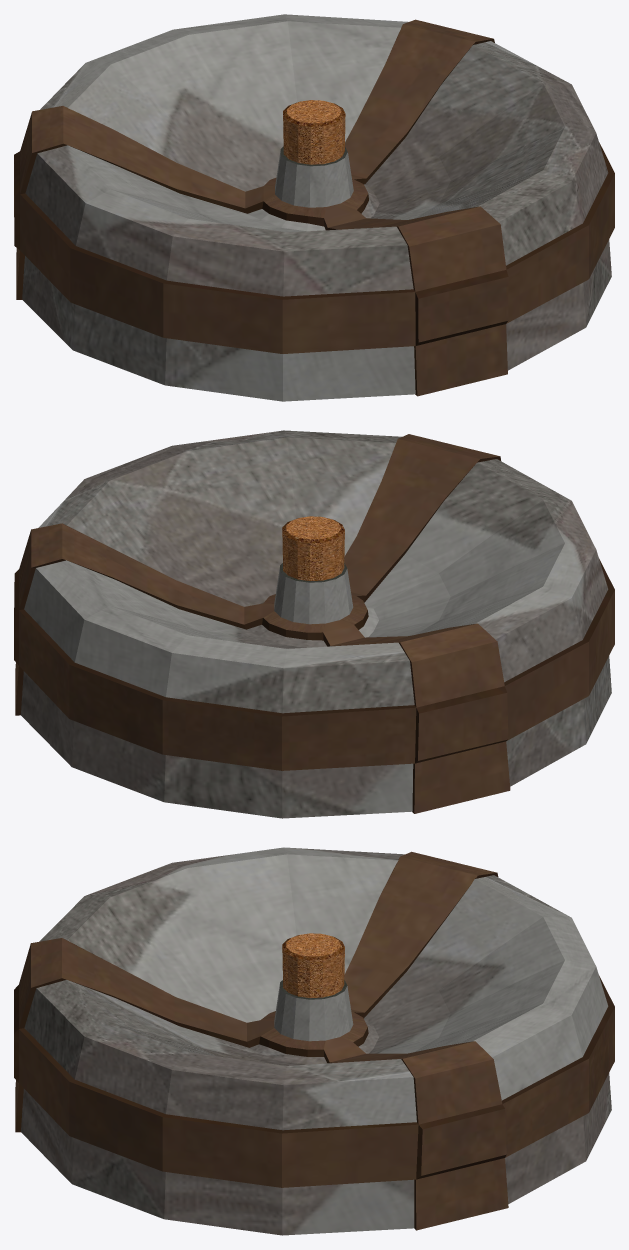
File: WorldItem_LargeWaterskinEmpty.fbx
The picture shows the model from 3 angles, top to bottom: view 1: azimuth 30°, elevation 25°; view 2: azimuth 150°, elevation 25°; view 3: azimuth 270°, elevation 25°; orthographic projection.
Visible parts, largest first — view 1: ZomboidLargeWaterskin; view 2: ZomboidLargeWaterskin; view 3: ZomboidLargeWaterskin.
Boxes of the visible parts, x1,y1,x2,y2 form: ZomboidLargeWaterskin: (14,14,614,401); ZomboidLargeWaterskin: (14,430,614,818); ZomboidLargeWaterskin: (14,847,614,1235).
Bounding box in the file's own units: 0.1657 × 0.0504 × 0.166.
